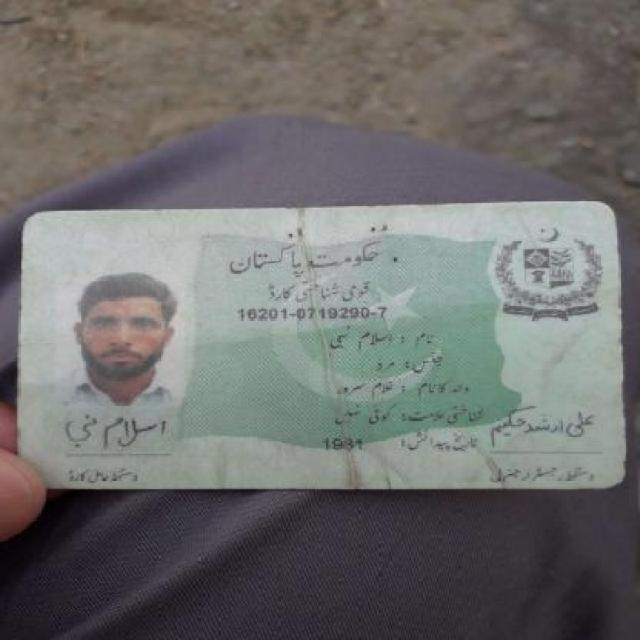Front: (17, 205, 625, 488)
